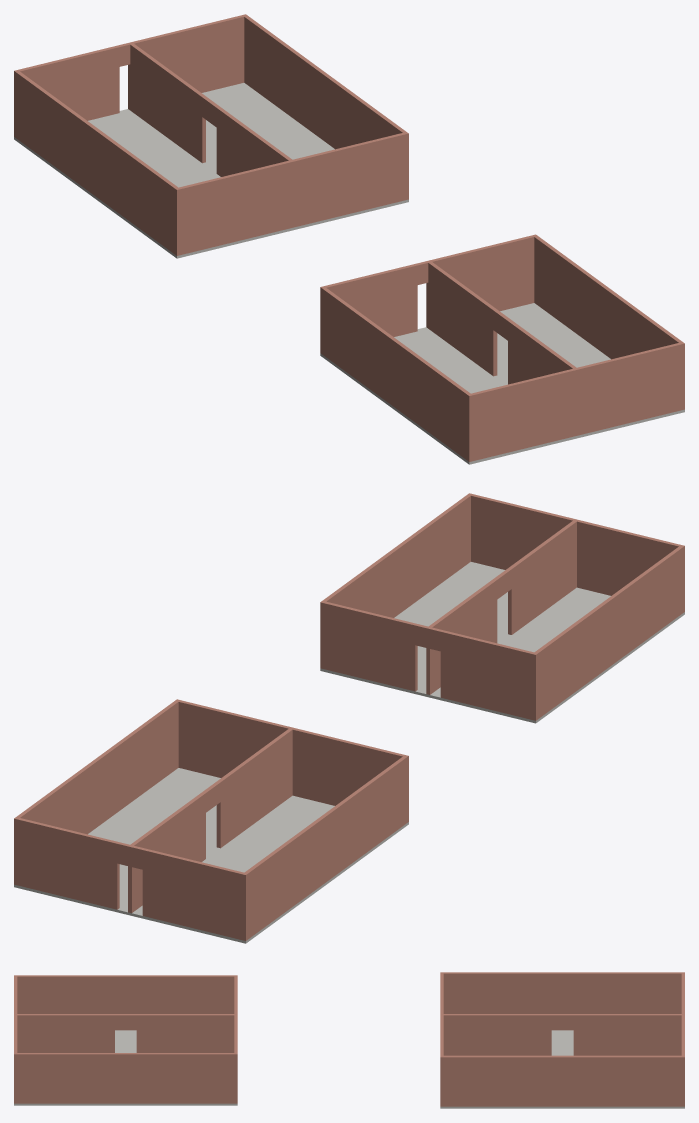
File: interiors.glb
3 views of the same model, one above another, from view 1: azimuth 30°, elevation 25°; view 2: azimuth 150°, elevation 25°; view 3: azimuth 270°, elevation 25° (orthographic). The views are drawn at different scales.
Visible parts, largest first — view 1: MGR Forge Test Neighborhood Interiors; view 2: MGR Forge Test Neighborhood Interiors; view 3: MGR Forge Test Neighborhood Interiors.
Part boxes in pixels (x1,y1,x2,y2): MGR Forge Test Neighborhood Interiors: (14, 14, 684, 464); MGR Forge Test Neighborhood Interiors: (14, 493, 684, 943); MGR Forge Test Neighborhood Interiors: (14, 972, 684, 1108).
Size of the model in its own units: 11.03 by 3.12 by 36.86.
